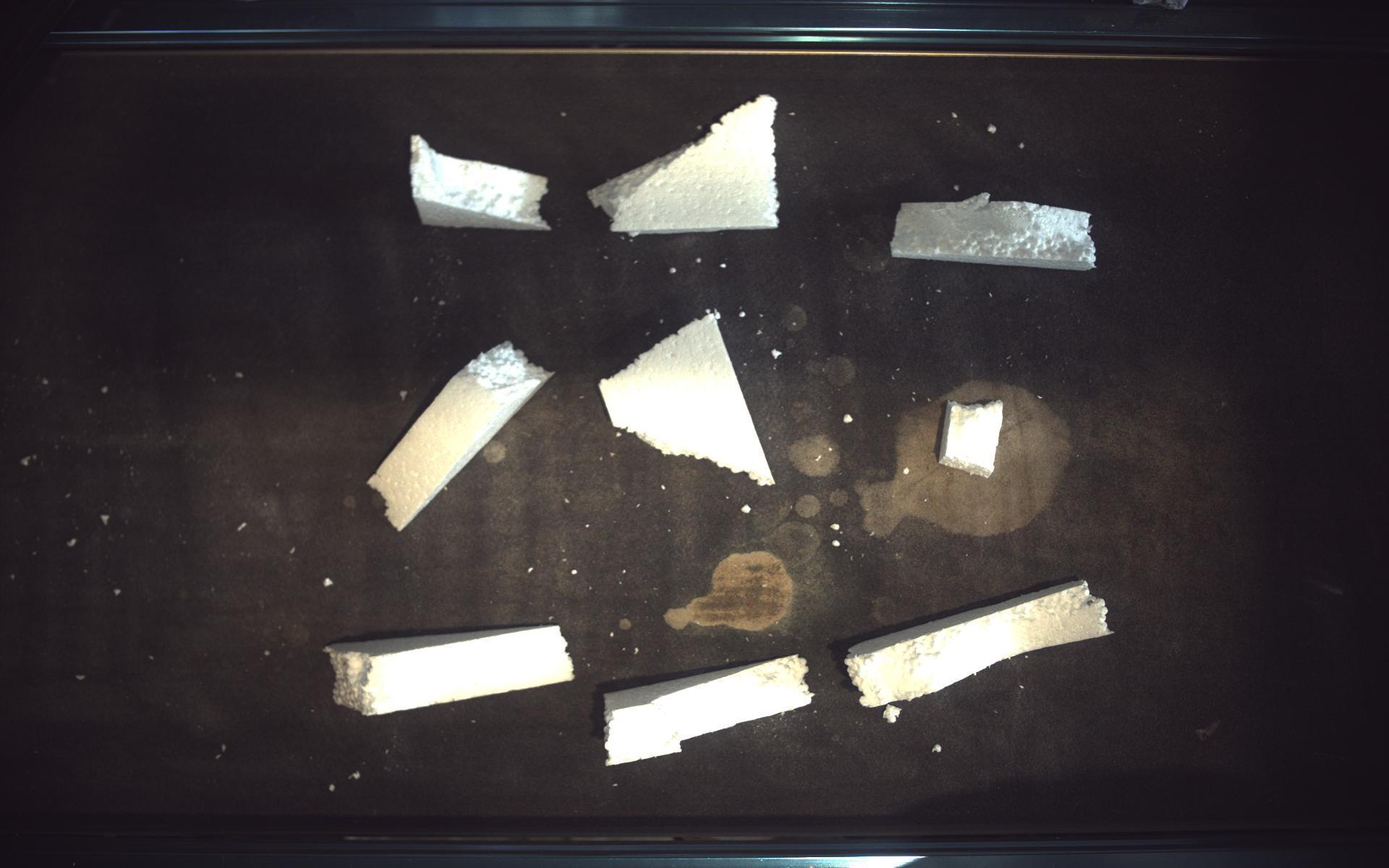foam: (368, 341, 552, 531), (846, 581, 1113, 708), (600, 312, 776, 486), (589, 94, 780, 235), (606, 656, 814, 767), (324, 626, 574, 717), (893, 192, 1097, 270), (411, 134, 550, 230), (940, 400, 1004, 477)
